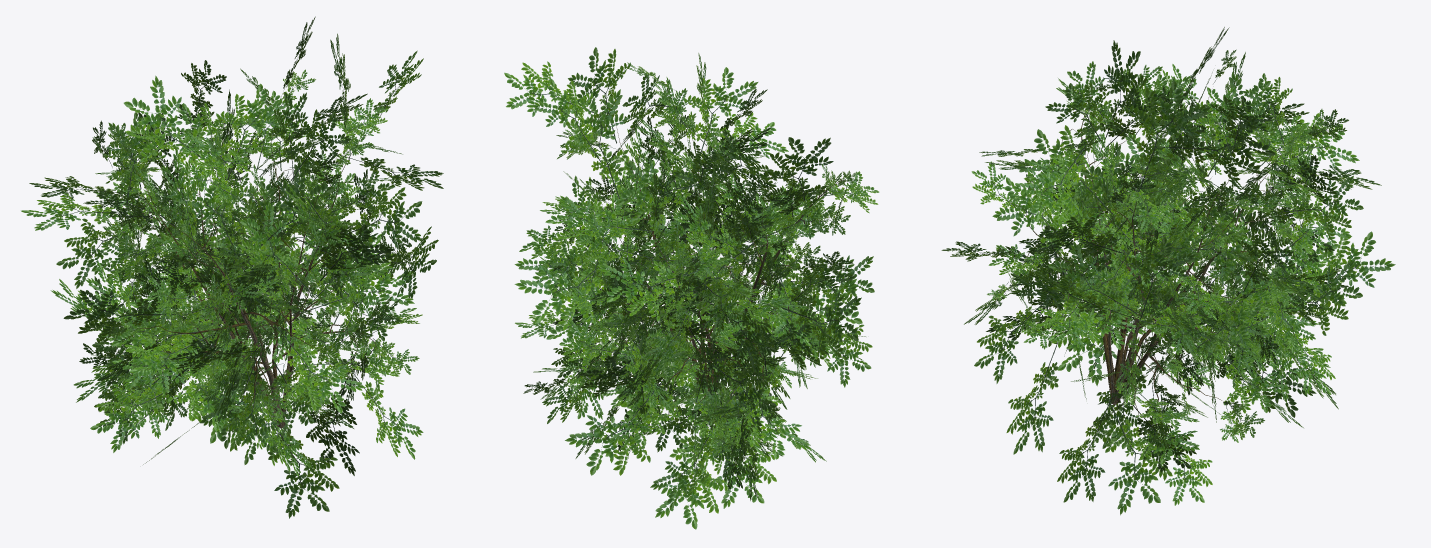
File: bush_sparse.glb
3 views of the same model, side by side, from view 1: azimuth 30°, elevation 25°; view 2: azimuth 150°, elevation 25°; view 3: azimuth 270°, elevation 25° (orthographic). The views are drawn at different scales.
Parts seen in each view (by area): view 1: Tree; view 2: Tree; view 3: Tree.
Part boxes in pixels (x1,y1,x2,y2): Tree: [21, 16, 443, 518]; Tree: [504, 47, 879, 529]; Tree: [941, 27, 1395, 515].
Size of the model in its own units: 33.8 by 39.3 by 36.76.
Materials: 2 (2 with a texture image).
